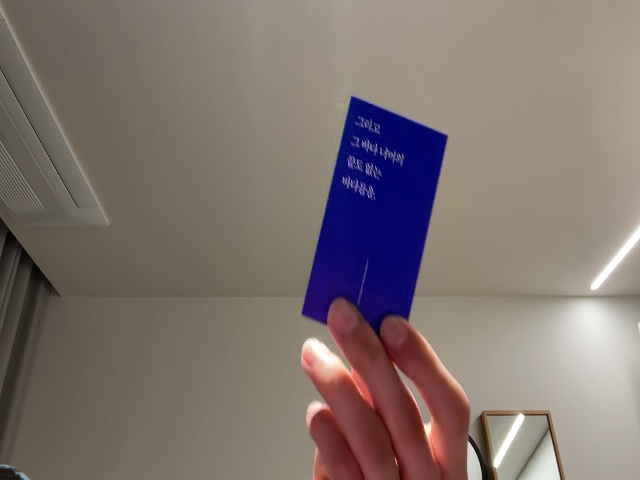card: (298, 94, 450, 353)
